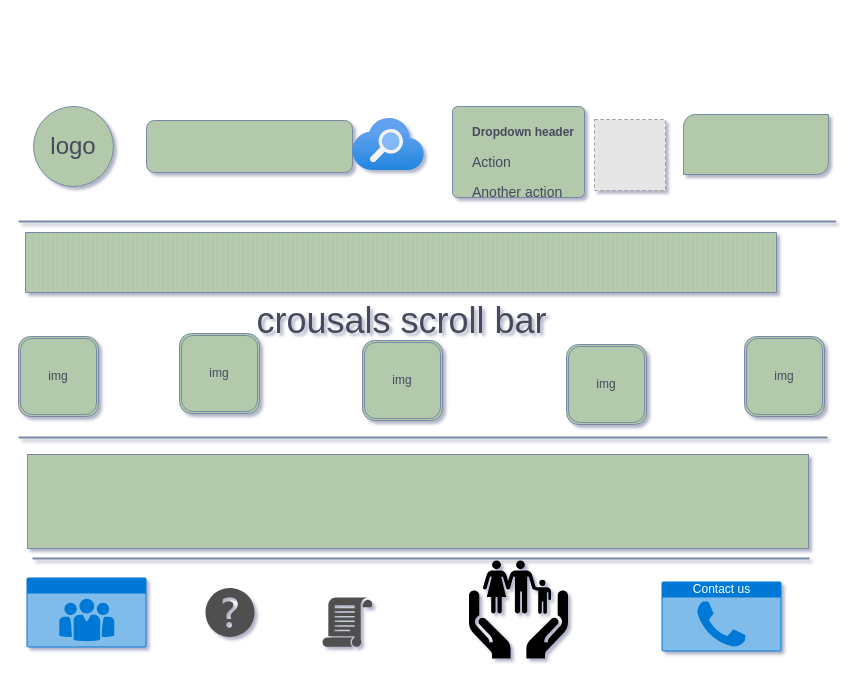
This 860x681 diagram has some shape labels left out. Grey dashed boxes stand in for pictures. The box of each missing label's shape, as (x1, y1, x2, y2) in pixels:
About us: (26, 577, 146, 647)
login/signup: (682, 114, 828, 174)
Products images with Description: (26, 454, 808, 548)
search: (146, 120, 352, 172)
